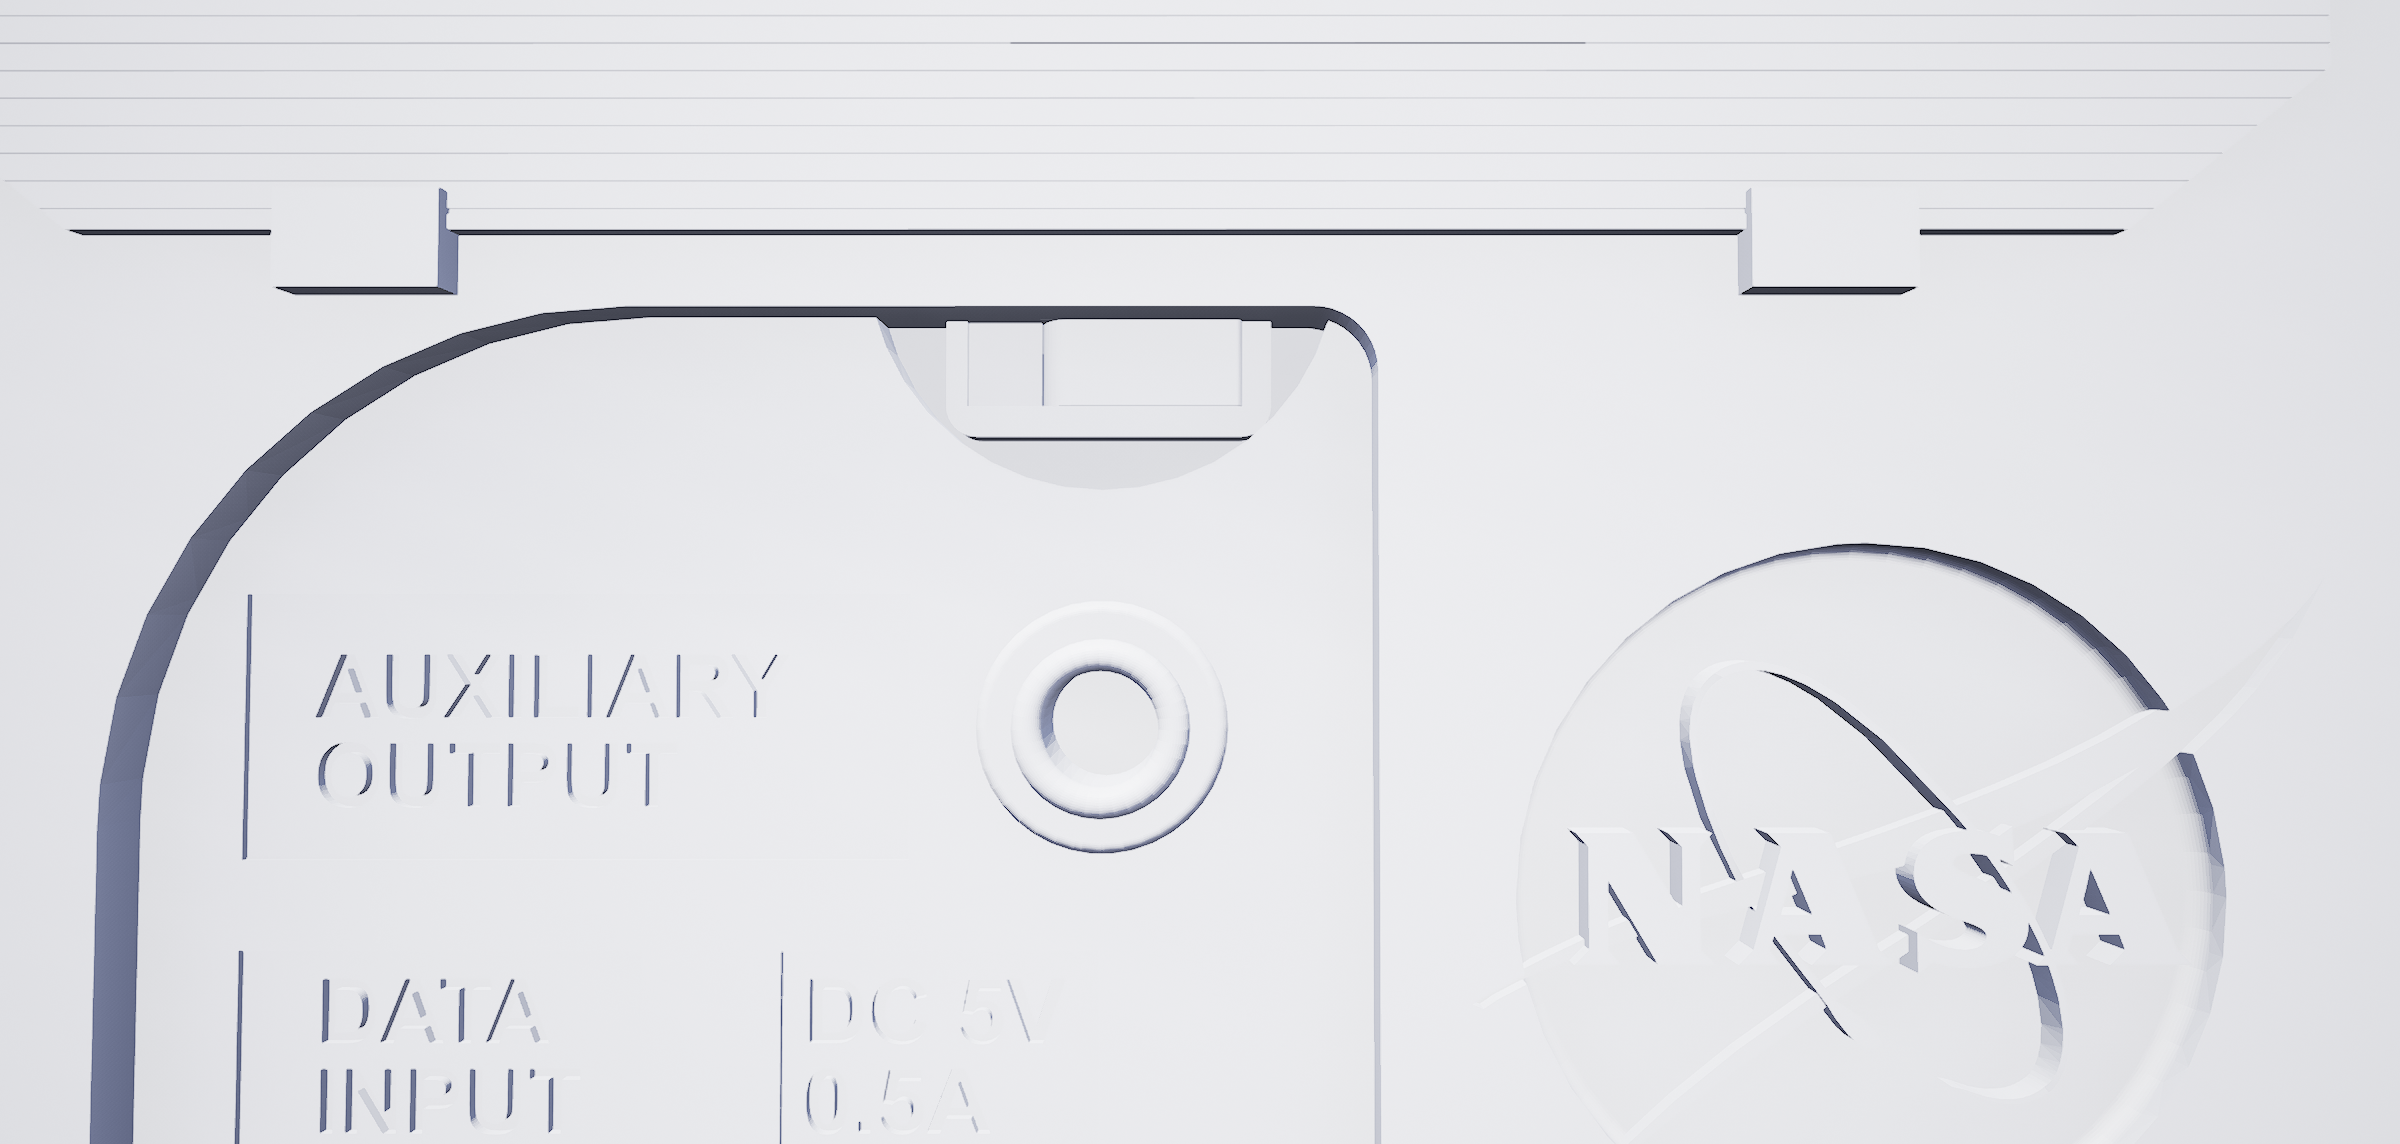aux: (966, 585, 1251, 873)
